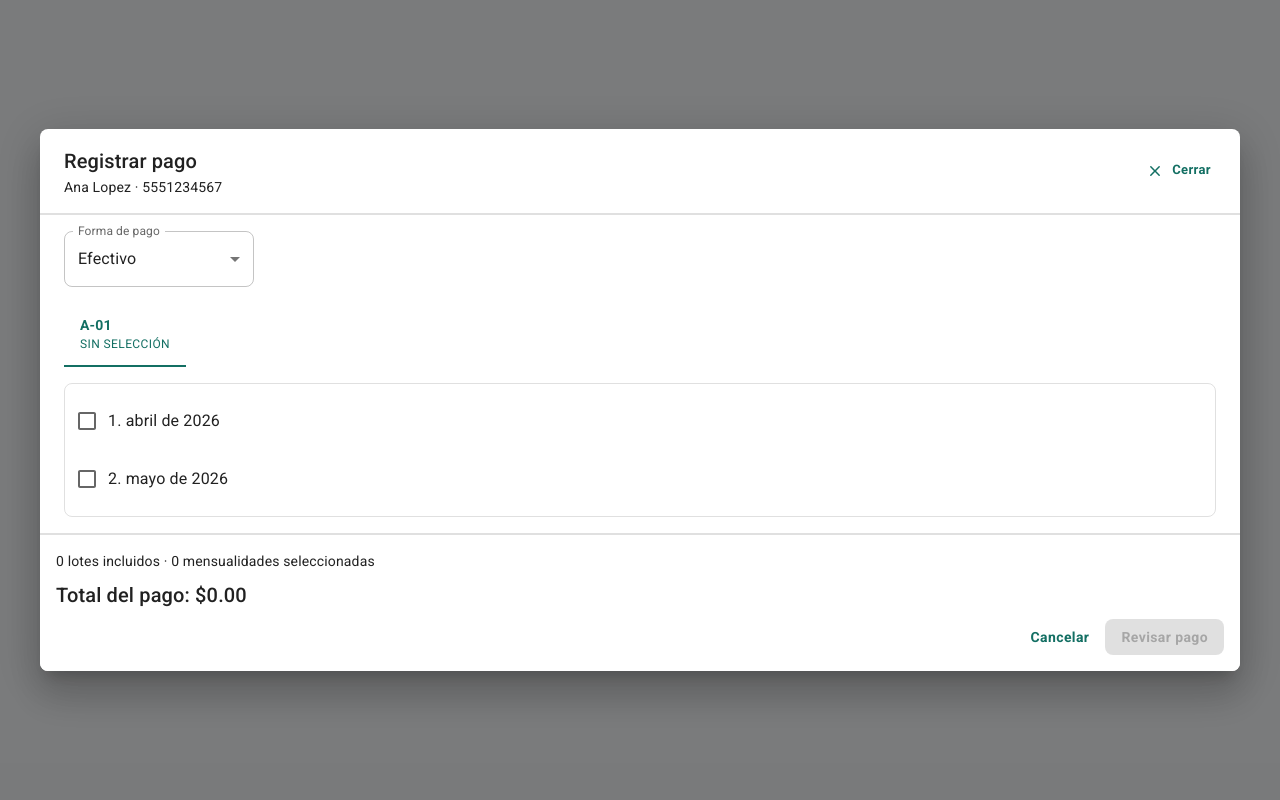
Test: RegisterPaymentDialog › sends transfer reference and selected installments when the user confirms
Press the mouse on the dropdown labelled "Efectivo" at (107, 259), box [78,249,136,268]
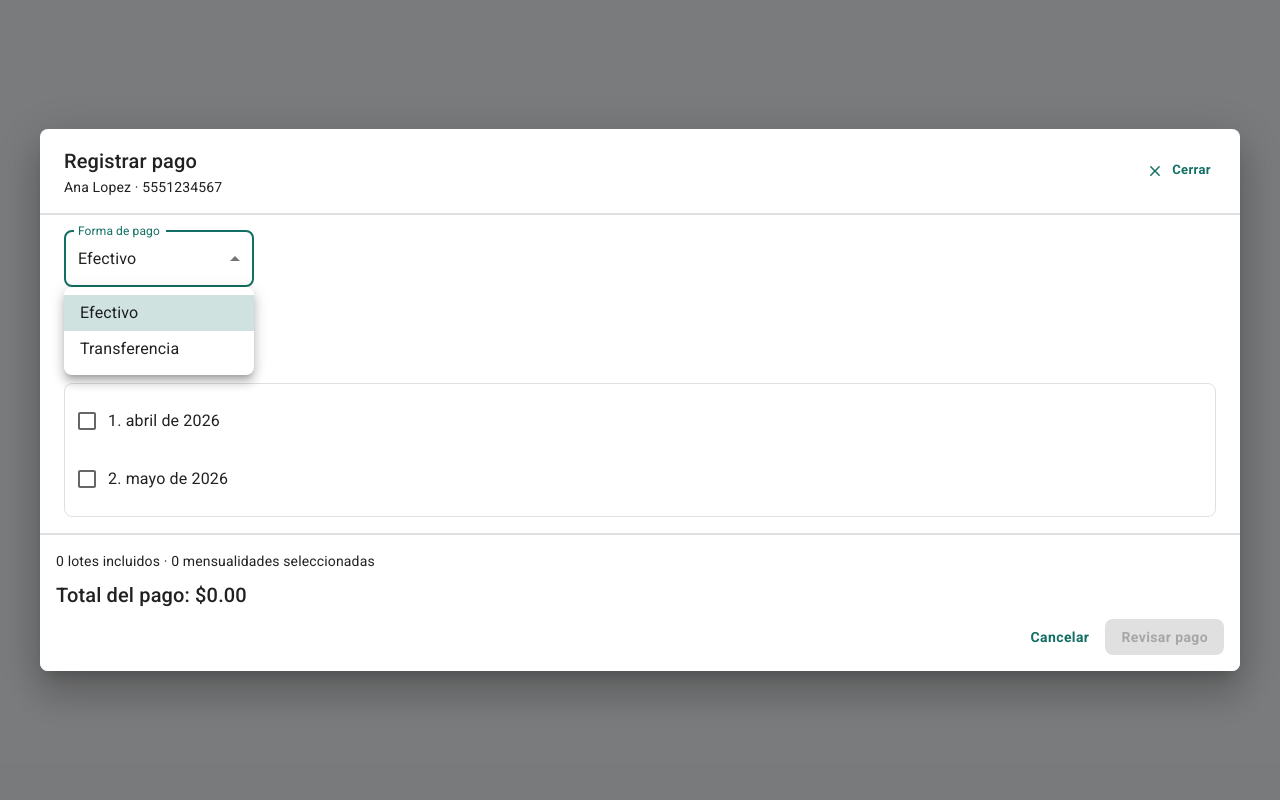
Click the option "Transferencia" at (130, 348), box [80,339,179,358]
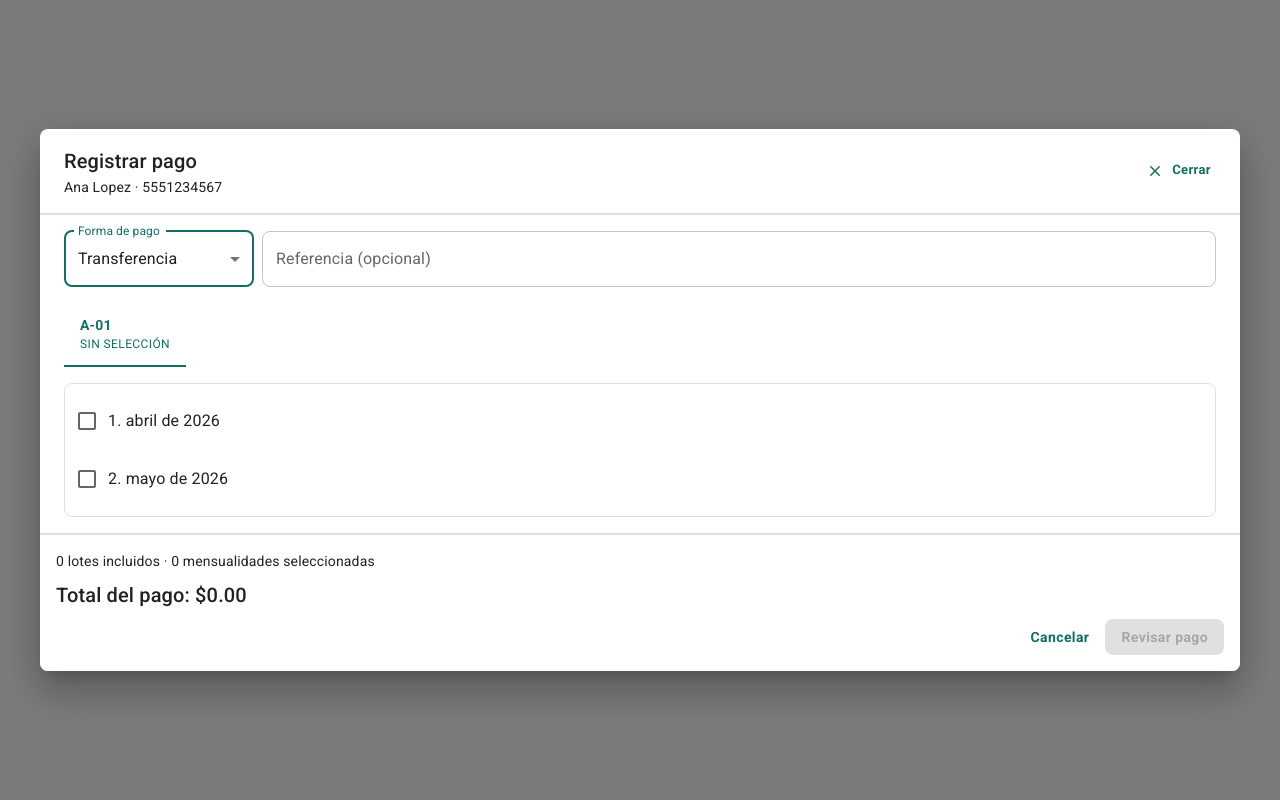
Type "  TR-999  " into the field labelled "Referencia (opcional)" at (739, 259), box [262,231,1216,287]
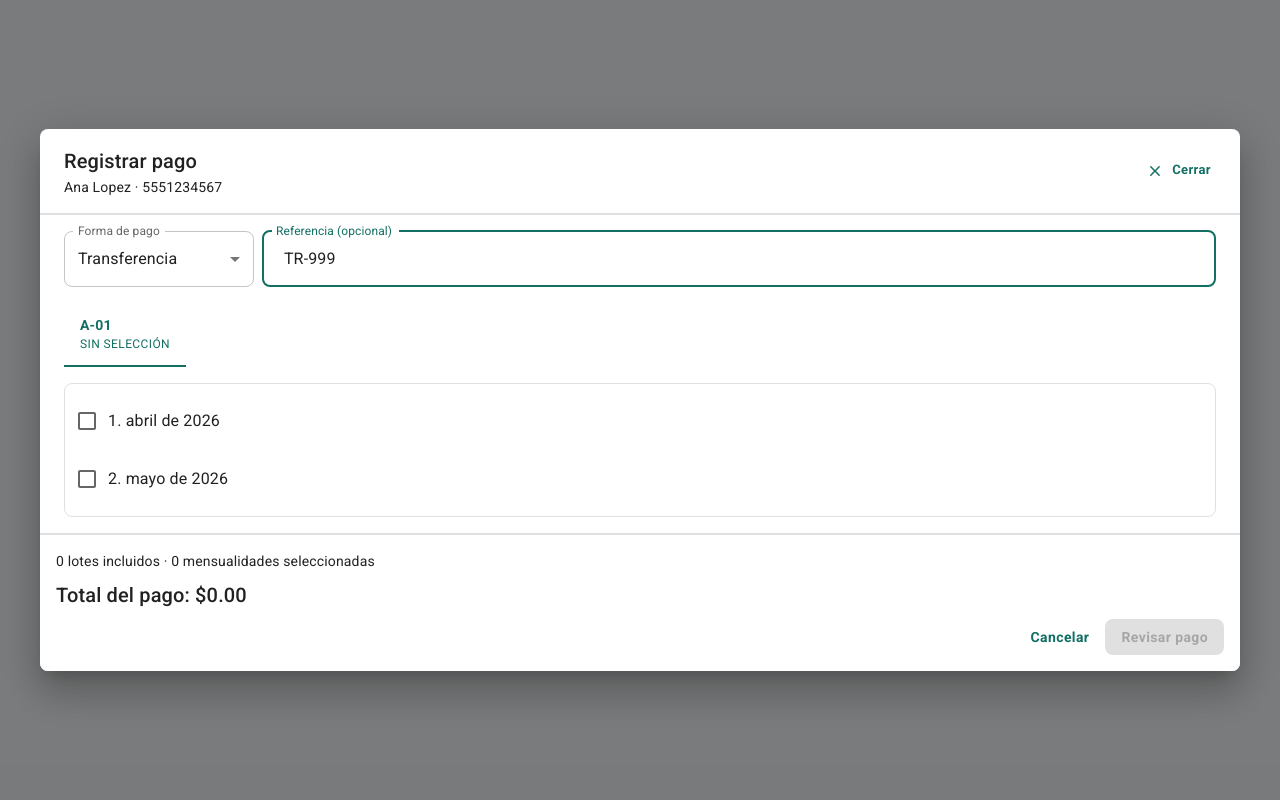
Click the checkbox labelled "1. abril de 2026" at (147, 421), box [75,409,220,433]
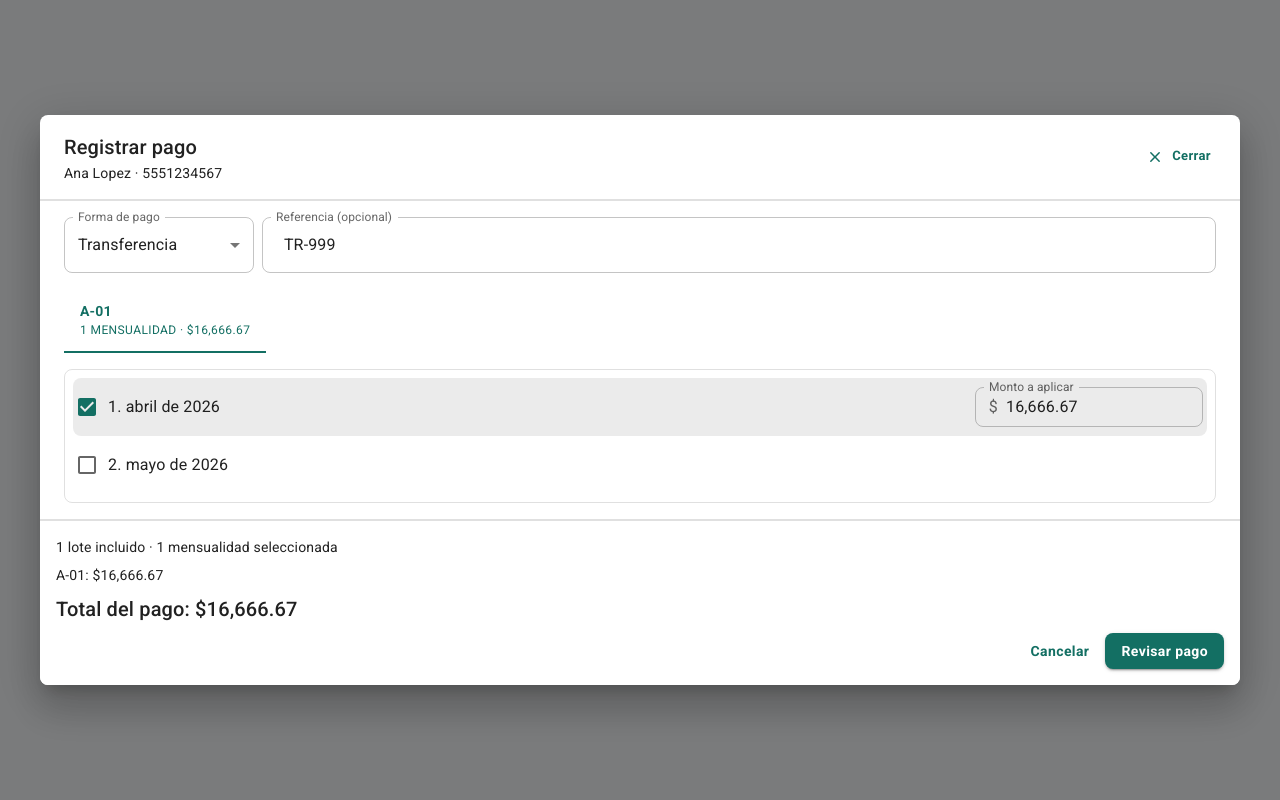
Click the button "Revisar pago" at (1165, 651), box [1105,633,1224,669]
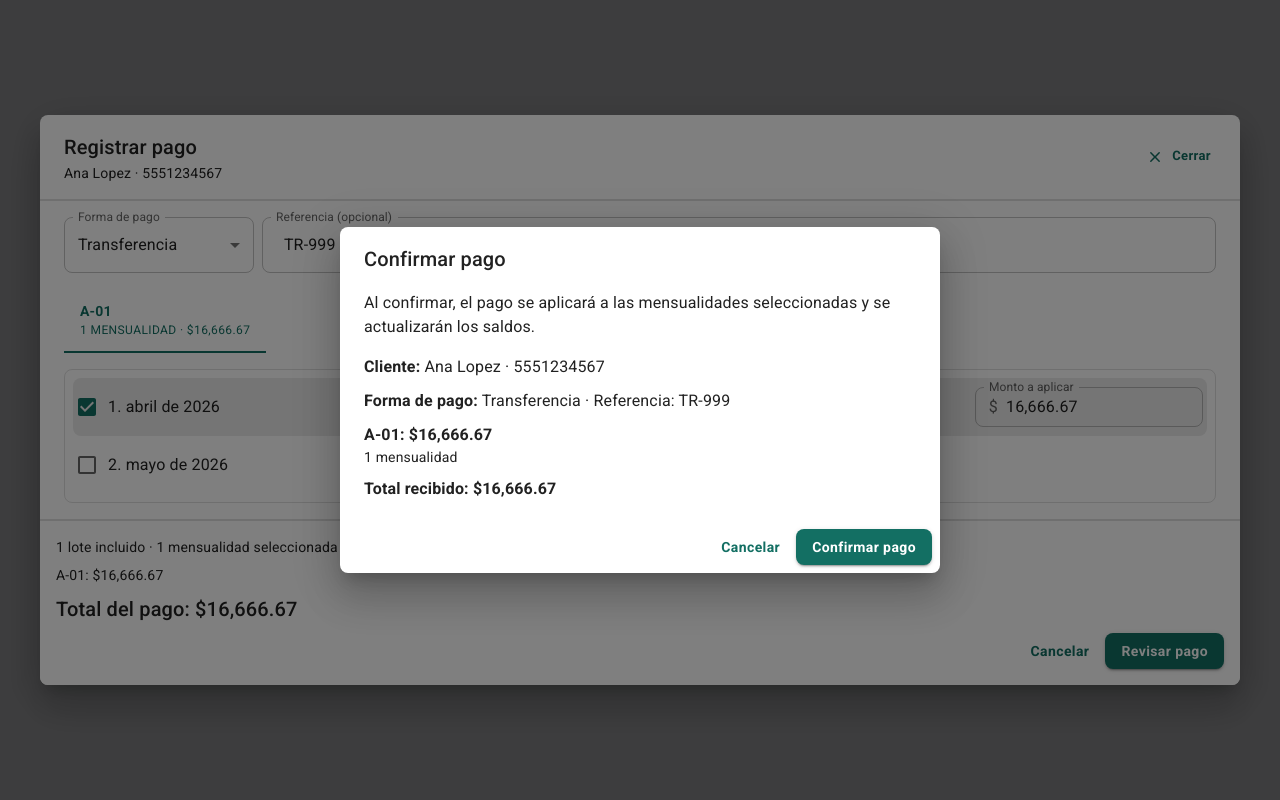
Result: the button "Confirmar pago" is enabled
Result: the button "Confirmar pago" is shown
Click the button "Confirmar pago" at (864, 547), box [796,529,932,565]
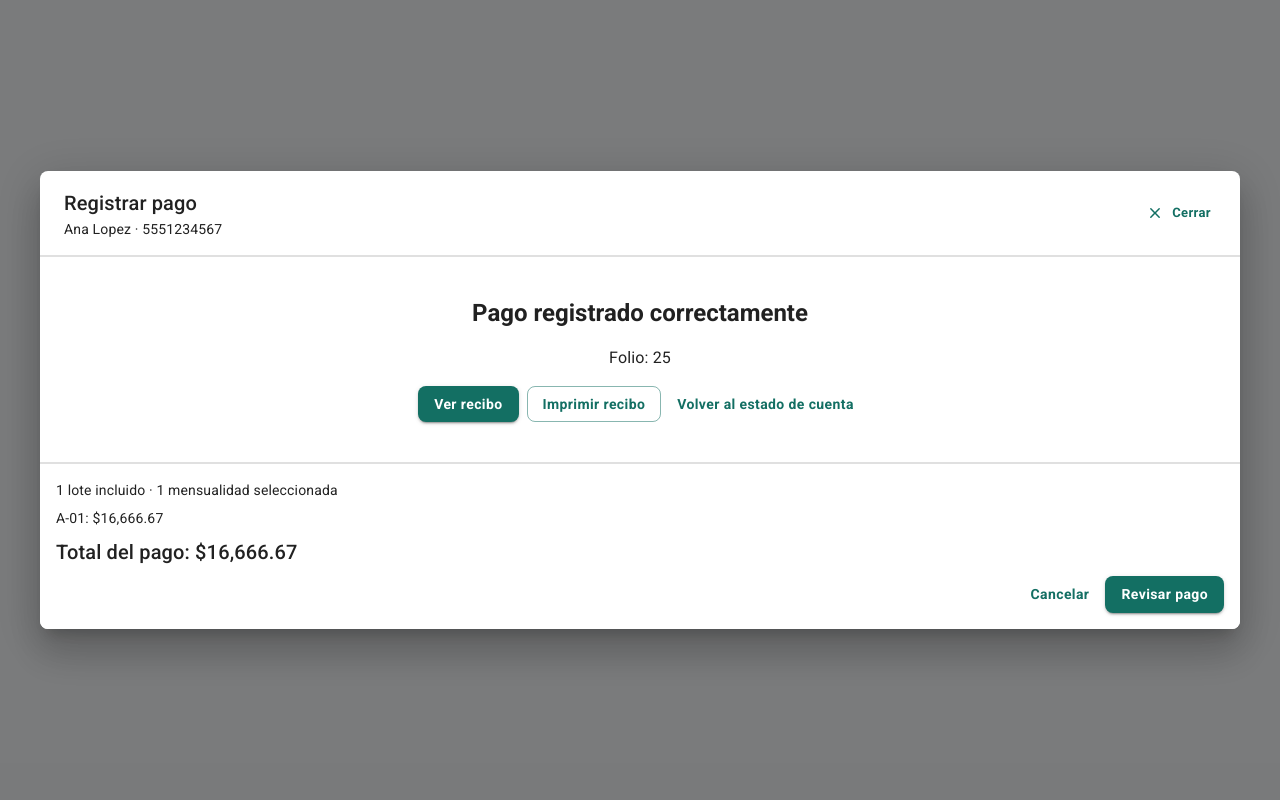
Result: the heading "Pago registrado correctamente" is shown at [472,298,808,330]
